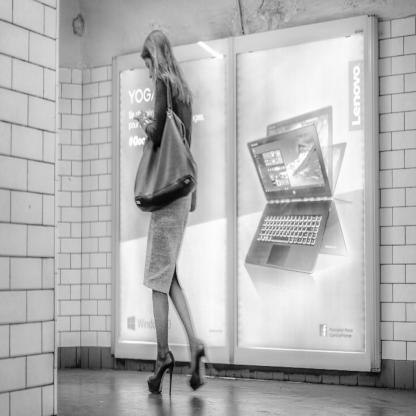board: (251, 95, 344, 288)
